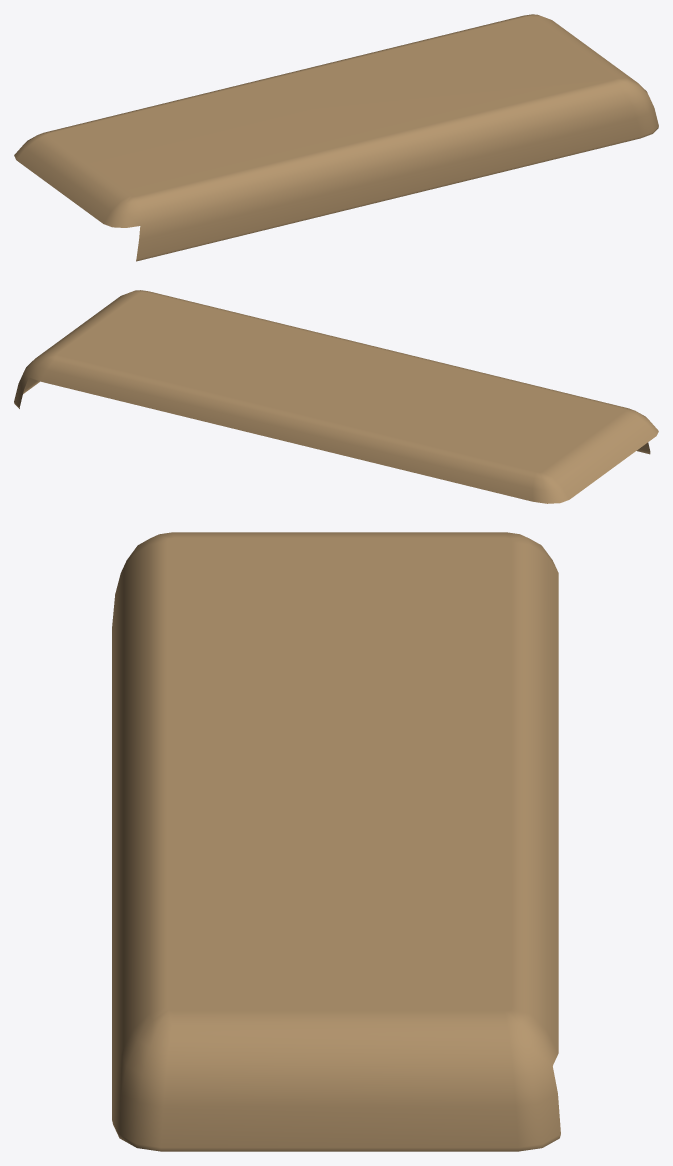
The model's file is BoatBack_UVMap.fbx.
The picture shows the model from 3 angles, top to bottom: view 1: azimuth 30°, elevation 25°; view 2: azimuth 150°, elevation 25°; view 3: azimuth 270°, elevation 25°; orthographic projection. The views are drawn at different scales.
Parts seen in each view (by area): view 1: polySurface15; view 2: polySurface15; view 3: polySurface15.
Boxes of the visible parts, left/top/right/bottom form: polySurface15: left=14, top=14, right=658, bottom=261; polySurface15: left=14, top=290, right=658, bottom=503; polySurface15: left=112, top=532, right=560, bottom=1151.
Size of the model in its own units: 2.09 by 0.1878 by 0.7347.
